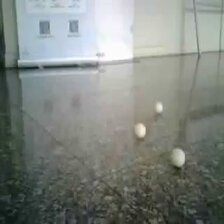tennis: (172, 94, 191, 121), (111, 68, 124, 87), (48, 58, 60, 76), (124, 53, 135, 67)
